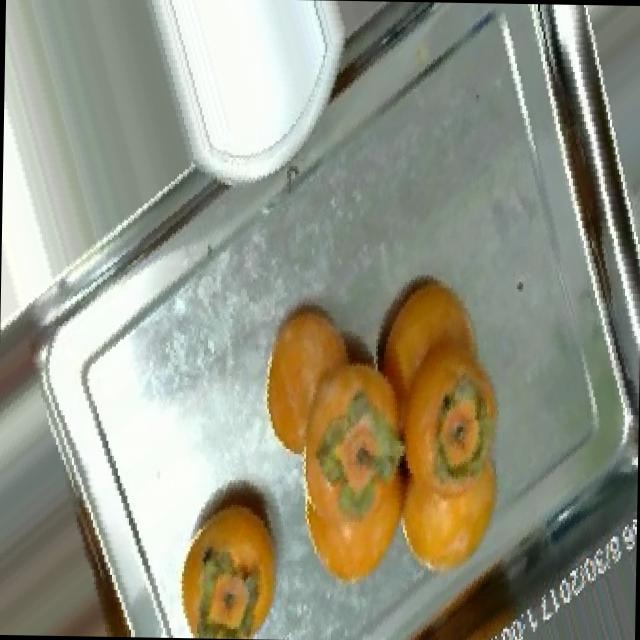Fruit: (237, 266, 399, 486), (346, 253, 517, 438), (144, 453, 300, 640)
